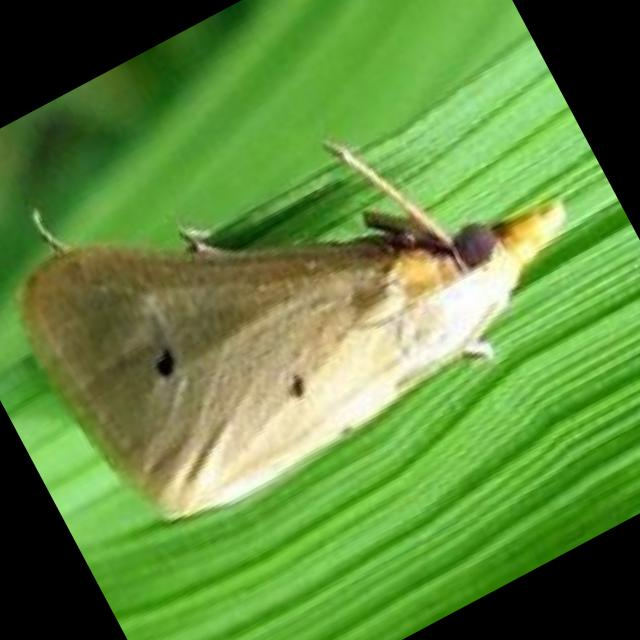stem-borer: (0, 0, 622, 562)
